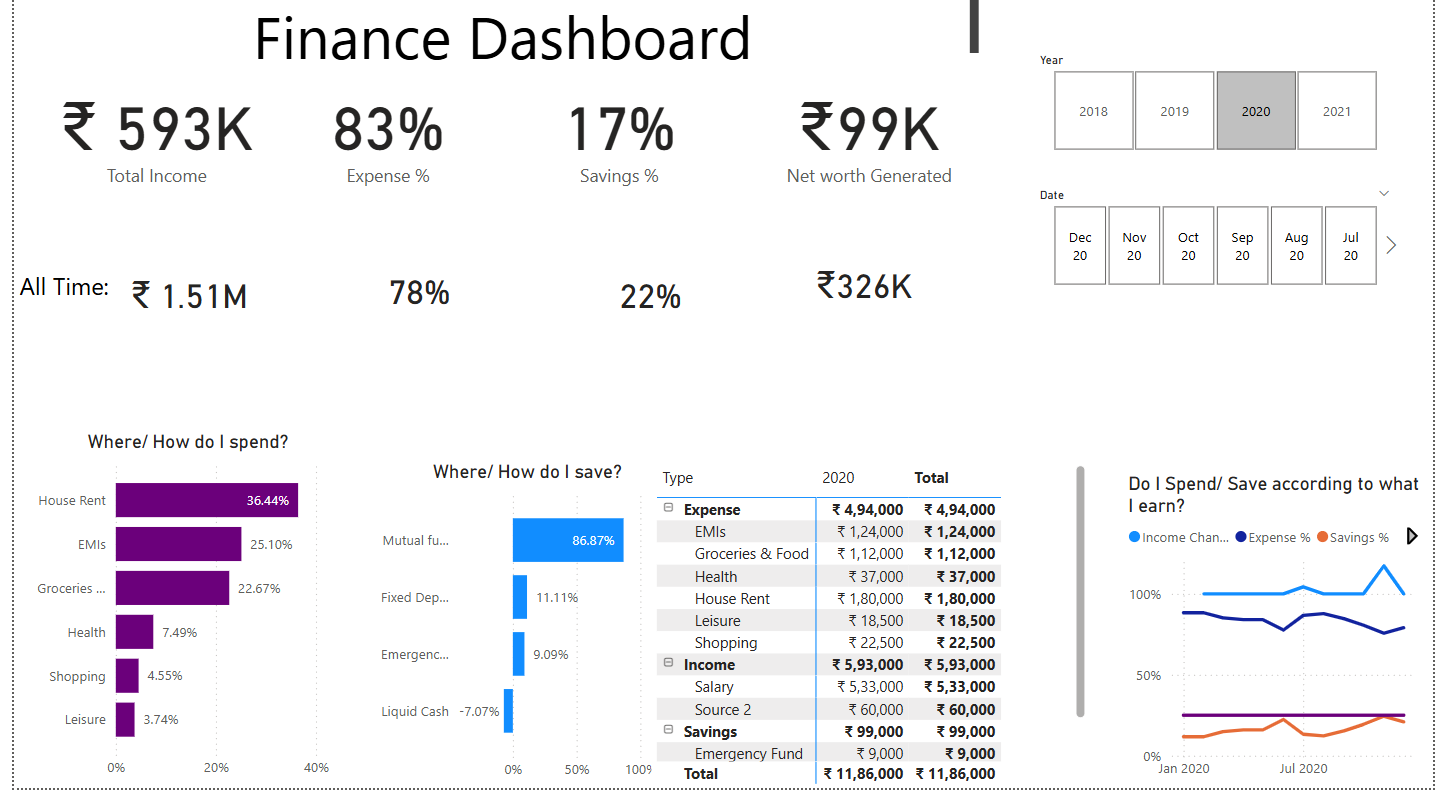

Layout of this report page (visuals, bound fields, positions):
{"tool":"powerbi","page":{"name":"Financial Dashboard","canvas":[1280,720],"ordinal":0},"visuals":[{"type":"card","fields":{"Values":["Key Measures.Total Income"]},"box":[25.2,70.6,208.3,115.9],"z":0},{"type":"card","fields":{"Values":["Key Measures.Expense %"]},"box":[233.5,70.6,208.3,115.9],"z":1000},{"type":"card","fields":{"Values":["Key Measures.Savings %"]},"box":[441.8,70.6,208.3,115.9],"z":2000},{"type":"card","fields":{"Values":["Key Measures.Total Savings"]},"box":[666.9,70.6,208.3,115.9],"z":3000},{"type":"slicer","fields":{"Values":["FinData.Year"]},"box":[912.1,52.1,341,99.1],"z":4000},{"type":"slicer","fields":{"Values":["FinData.Date"]},"box":[912.1,173,341,99.1],"z":5000},{"type":"card","fields":{"Values":["Key Measures.Total Income"]},"box":[53.8,216.7,208.3,115.9],"z":6000},{"type":"card","fields":{"Values":["Key Measures.Expense %"]},"box":[262,213.3,208.3,115.9],"z":7000},{"type":"card","fields":{"Values":["Key Measures.Savings %"]},"box":[470.3,216.7,208.3,115.9],"z":8000},{"type":"card","fields":{"Values":["Key Measures.Total Savings"]},"box":[678.6,216.7,176.4,97.4],"z":9000},{"type":"textbox","box":[0,246.9,104.1,48.7],"z":10000},{"type":"textbox","box":[15.1,0,860.1,70.6],"z":11000},{"type":"clusteredBarChart","title":"Where/ How do I spend?","fields":{"Category":["FinData.Component"],"Y":["Key Measures.Total Expense"]},"box":[0,396.4,314.1,322.5],"z":12000},{"type":"clusteredBarChart","title":"Where/ How do I save?","fields":{"Category":["FinData.Component"],"Y":["Key Measures.Net worth Generated"]},"box":[314.1,423.3,297.3,297.3],"z":13000},{"type":"lineChart","title":"Do I Spend/ Save according to what I earn?","fields":{"Y":["Key Measures.Income Change MoM %","Key Measures.Expense %","Key Measures.Savings %","Key Measures.Savings target"],"Category":["FinData.Date"]},"box":[999.5,435.1,280.5,285.6],"z":14000},{"type":"pivotTable","fields":{"Columns":["FinData.Year"],"Rows":["FinData.Type","FinData.Component"],"Values":["Key Measures.Values"]},"box":[574.5,423.3,396.4,297.3],"z":14001}]}

Visuals, with their boxes in screenshot pixels (x1, y1, x2, y2), scaled from the page's 1280x720 canvas onto the 1444x797 screenshot:
card - Key Measures.Total Income: left=28, top=78, right=263, bottom=206
card - Key Measures.Expense %: left=263, top=78, right=498, bottom=206
card - Key Measures.Savings %: left=498, top=78, right=733, bottom=206
card - Key Measures.Total Savings: left=752, top=78, right=987, bottom=206
slicer - FinData.Year: left=1029, top=58, right=1414, bottom=167
slicer - FinData.Date: left=1029, top=192, right=1414, bottom=301
card - Key Measures.Total Income: left=61, top=240, right=296, bottom=368
card - Key Measures.Expense %: left=296, top=236, right=531, bottom=364
card - Key Measures.Savings %: left=531, top=240, right=766, bottom=368
card - Key Measures.Total Savings: left=766, top=240, right=965, bottom=348
textbox: left=0, top=273, right=117, bottom=327
textbox: left=17, top=0, right=987, bottom=78
"Where/ How do I spend?" clusteredBarChart: left=0, top=439, right=354, bottom=796
"Where/ How do I save?" clusteredBarChart: left=354, top=469, right=690, bottom=796
"Do I Spend/ Save according to what I earn?" lineChart: left=1128, top=482, right=1443, bottom=796
pivotTable - FinData.Year x FinData.Type: left=648, top=469, right=1095, bottom=796
